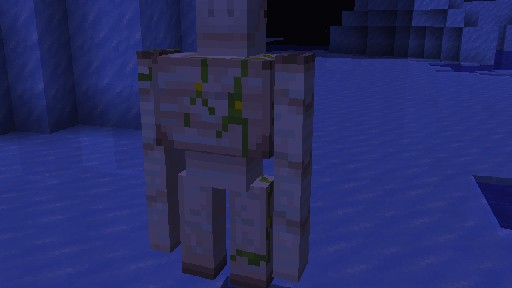iron_golem: (135, 0, 315, 288)
